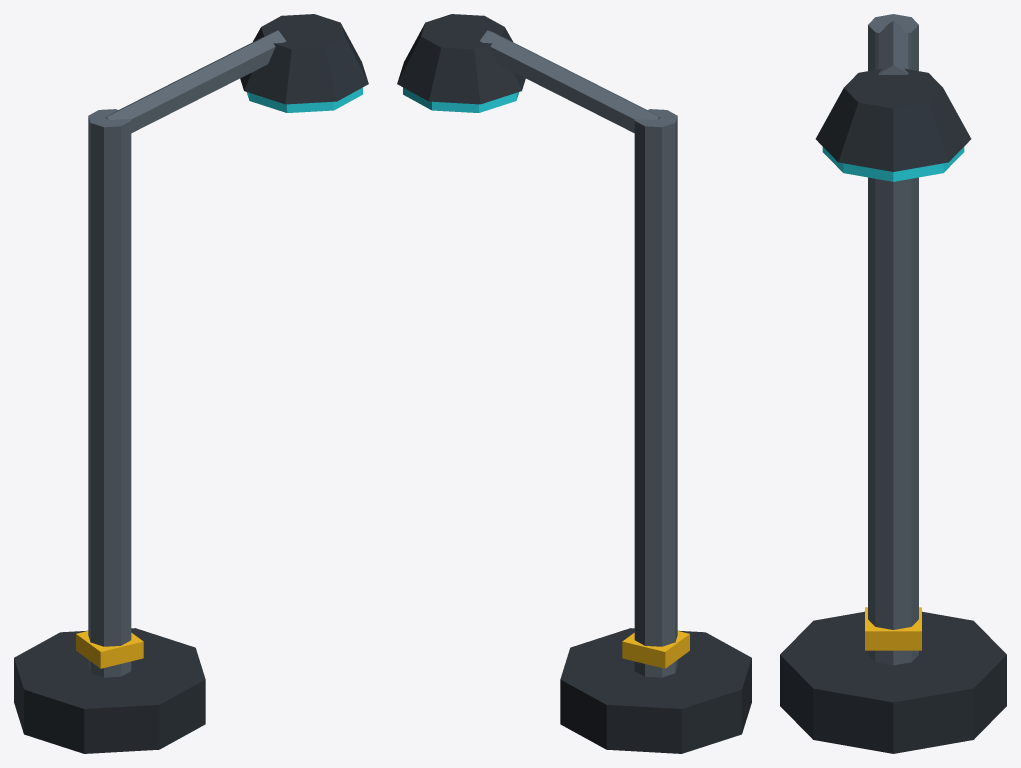
Rendered from RoboLamp.fbx.
The picture shows the model from 3 angles, left to right: view 1: azimuth 30°, elevation 25°; view 2: azimuth 150°, elevation 25°; view 3: azimuth 270°, elevation 25°; orthographic projection. The views are drawn at different scales.
Visible parts, largest first — view 1: RoboLamp, RoboLamp_Glow; view 2: RoboLamp, RoboLamp_Glow; view 3: RoboLamp, RoboLamp_Glow.
Boxes of the visible parts, x1,y1,x2,y2 form: RoboLamp: [14, 14, 368, 753]; RoboLamp_Glow: [246, 87, 362, 112]; RoboLamp: [397, 14, 751, 753]; RoboLamp_Glow: [403, 87, 519, 112]; RoboLamp: [780, 14, 1006, 753]; RoboLamp_Glow: [822, 147, 964, 181].
Bounding box in the file's own units: 315 × 572 × 160.
Materials: 1 (1 with a texture image).
